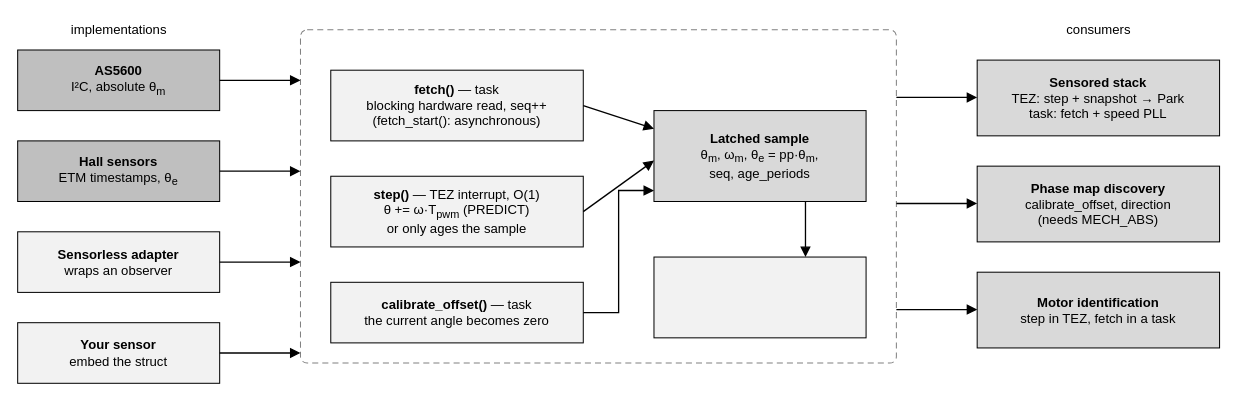
Some shapes in this 1237 by 401 pixel diagram are drawn without their labels. The box of each missing label's shape, as (x1, y1, x2, y2) in pixels:
esp_foc_rotor_sensor_t: one table of function pointers: (299, 29, 896, 363)
snapshot() , getters, caps() any context one coherent rotor state: (653, 256, 866, 338)
